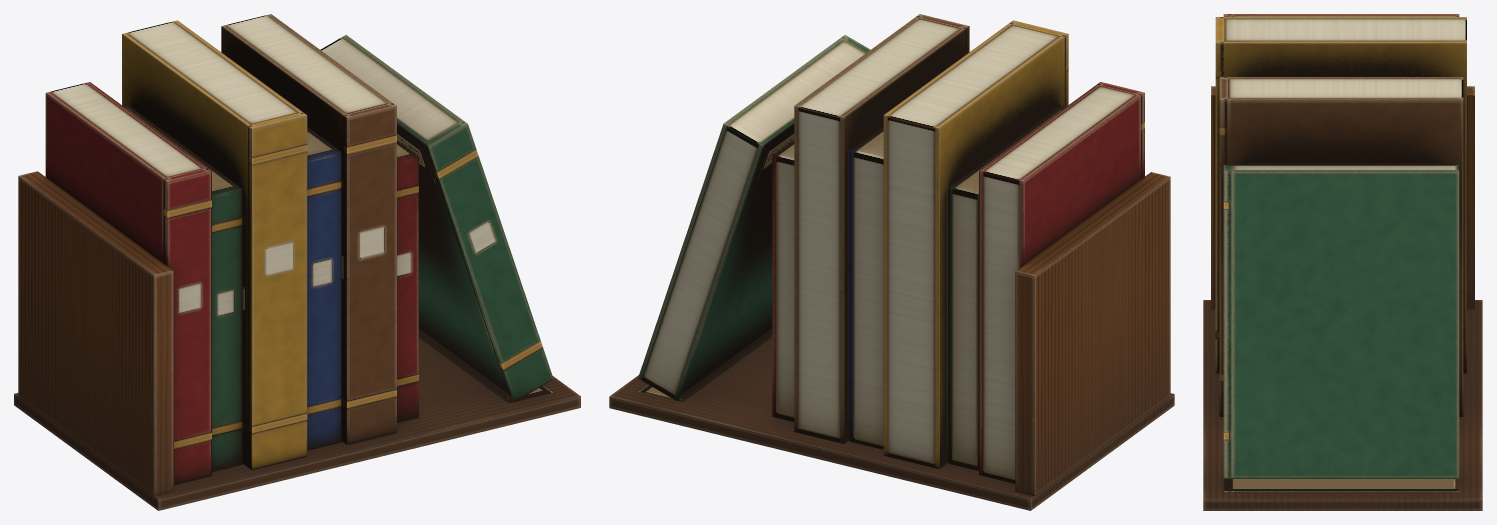
File: Books_Row_01.glb
The picture shows the model from 3 angles, left to right: view 1: azimuth 30°, elevation 25°; view 2: azimuth 150°, elevation 25°; view 3: azimuth 270°, elevation 25°; orthographic projection. The views are drawn at different scales.
Parts seen in each view (by area): view 1: Books_Row_01; view 2: Books_Row_01; view 3: Books_Row_01.
Part boxes in pixels (x1,y1,x2,y2): Books_Row_01: [14, 14, 580, 510]; Books_Row_01: [609, 14, 1174, 510]; Books_Row_01: [1203, 14, 1482, 510].
Size of the model in its own units: 0.3043 by 0.243 by 0.18.
1 material, 1 textured.
